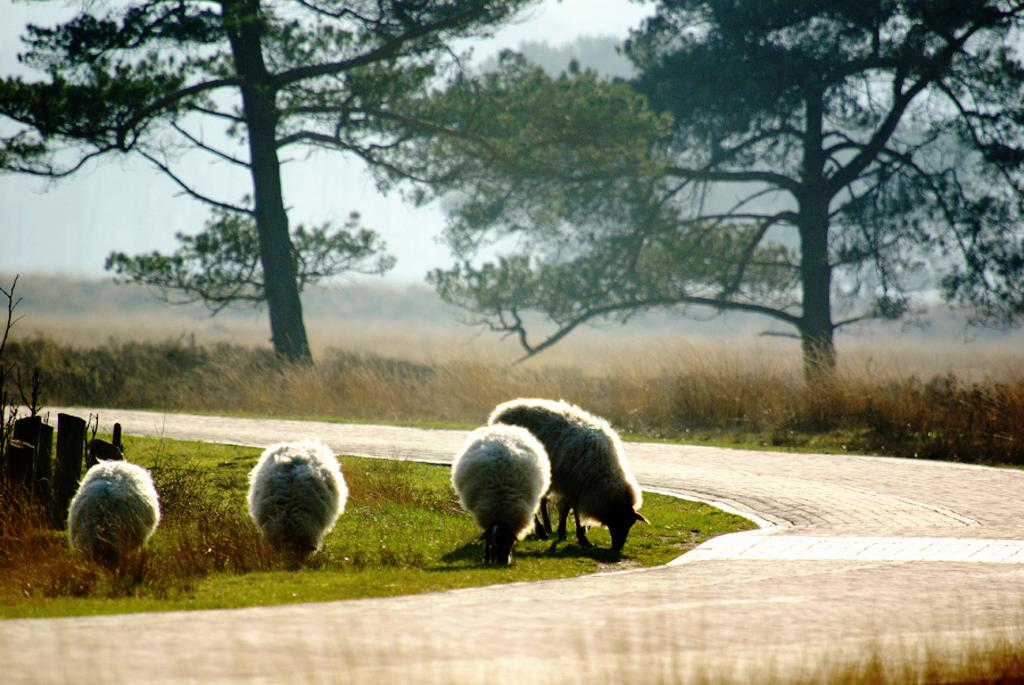Sheep: (481, 397, 642, 562), (242, 431, 350, 569), (448, 424, 548, 566), (64, 458, 158, 588)
